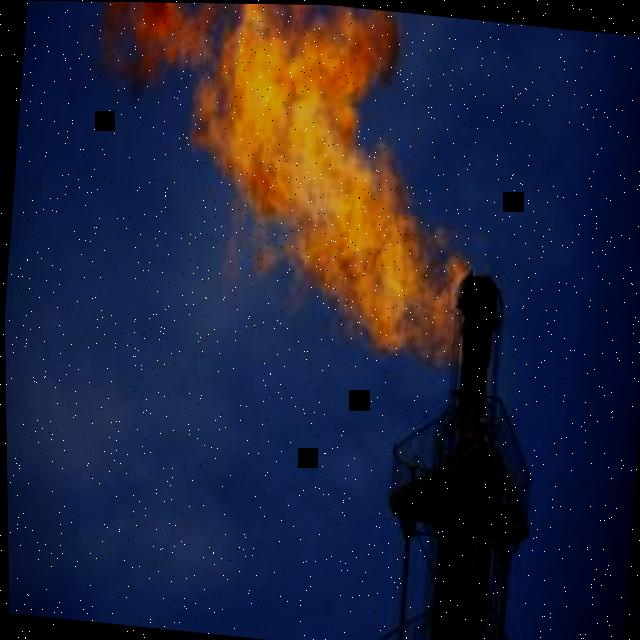fire: (97, 1, 475, 369)
